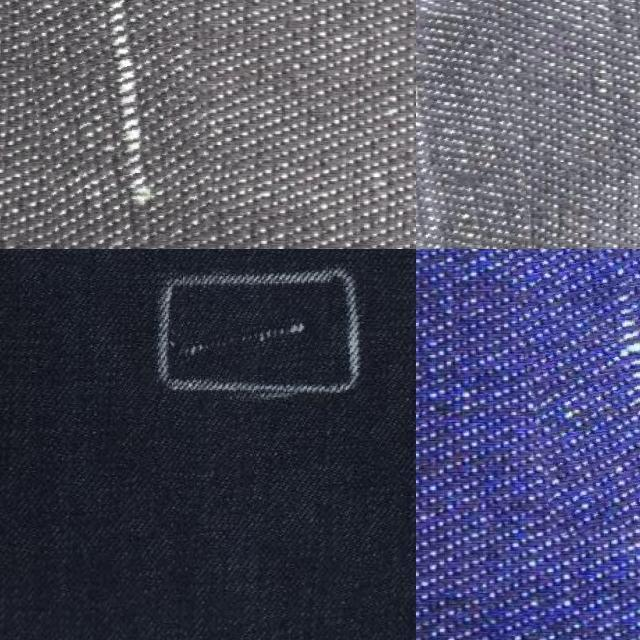stains: (4, 0, 203, 249), (517, 249, 640, 529), (416, 6, 539, 249), (168, 314, 314, 372)
